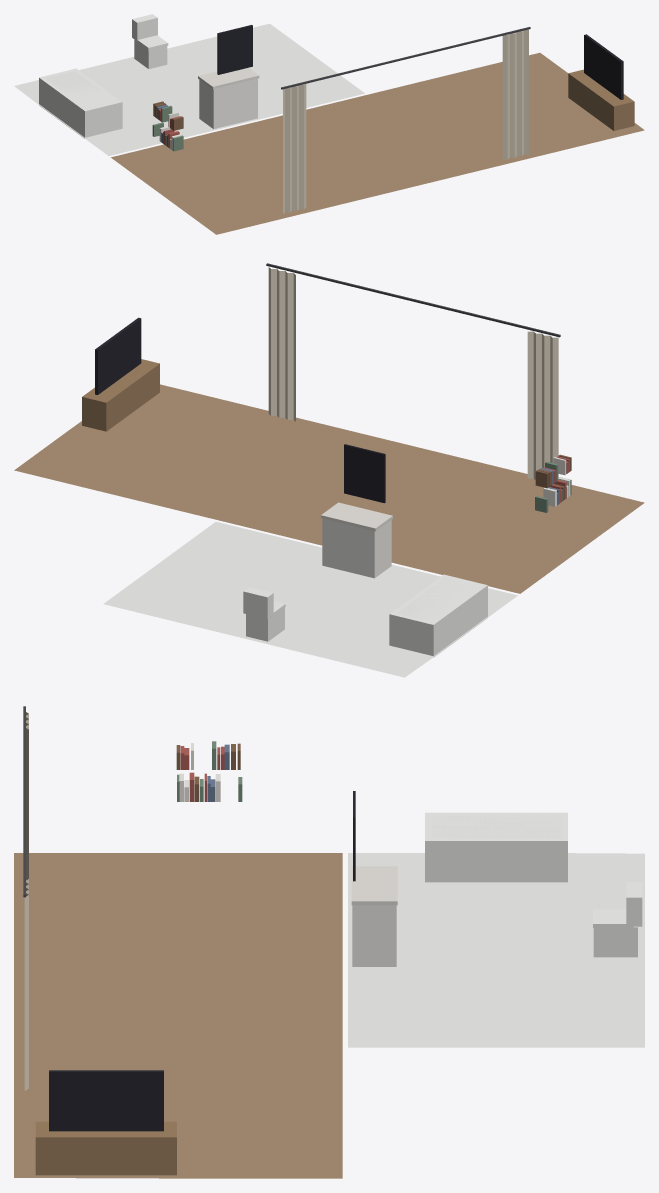
File: fine-s1.glb
The picture shows the model from 3 angles, top to bottom: view 1: azimuth 30°, elevation 25°; view 2: azimuth 150°, elevation 25°; view 3: azimuth 270°, elevation 25°; orthographic projection. The views are drawn at different scales.
Parts seen in each view (by area): view 1: soft-s1, vanity.000, bathtub.000, tv-console.000, toilet.000; view 2: soft-s1, vanity.000, bathtub.000, tv-console.000, toilet.000; view 3: soft-s1, tv-console.000, bathtub.000, vanity.000, toilet.000.
Part boxes in pixels (x1,y1,x2,y2): soft-s1: (14,23,644,234); vanity.000: (198,25,259,129); bathtub.000: (39,68,122,138); tv-console.000: (568,34,634,130); toilet.000: (132,14,168,68); soft-s1: (14,263,644,677); vanity.000: (321,444,392,578); bathtub.000: (389,574,487,657); tv-console.000: (82,317,159,431); toilet.000: (243,587,285,641); soft-s1: (14,706,644,1178); tv-console.000: (35,1070,176,1175); bathtub.000: (425,812,567,882); vanity.000: (351,791,397,966); toilet.000: (593,882,642,957).
Bounding box in the file's own units: 8.72 × 2.51 × 7.14.
